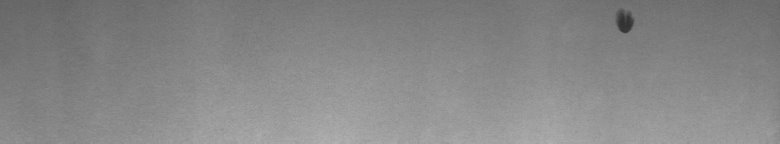fi: (611, 4, 640, 40)
